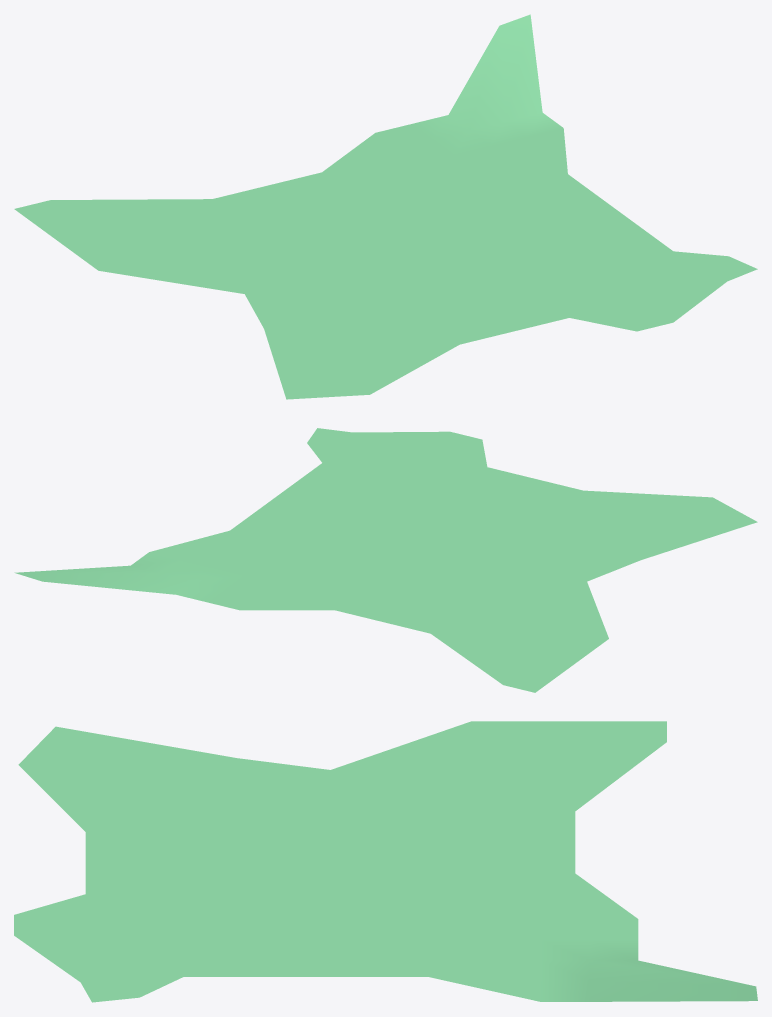
File: slime2.fbx
The picture shows the model from 3 angles, top to bottom: view 1: azimuth 30°, elevation 25°; view 2: azimuth 150°, elevation 25°; view 3: azimuth 270°, elevation 25°; orthographic projection. The views are drawn at different scales.
Visible parts, largest first — view 1: pPlane1; view 2: pPlane1; view 3: pPlane1.
Part boxes in pixels (x1=…): pPlane1: x1=14, y1=14, x2=757, y2=399; pPlane1: x1=14, y1=428, x2=757, y2=692; pPlane1: x1=14, y1=721, x2=757, y2=1002.
Size of the model in its own units: 6.74 by 0.3507 by 6.73.
